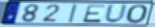2: (41, 4, 61, 23)
8: (20, 4, 40, 23)
E: (81, 4, 107, 23)
I: (67, 3, 79, 23)
O: (125, 4, 150, 25)
U: (104, 3, 130, 24)
